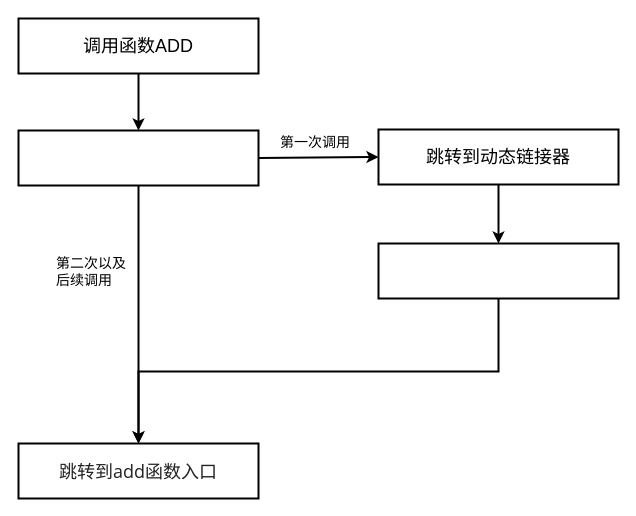
The diagram is 636 pixels wide and 516 high, and some of its shapes have lost their labels. Each missing label, with the centre of its shape:
".plt表" goes at (x=138, y=157).
"修改.GOT.PLT表，将对应内容改为函数实际地址" goes at (x=498, y=270).
